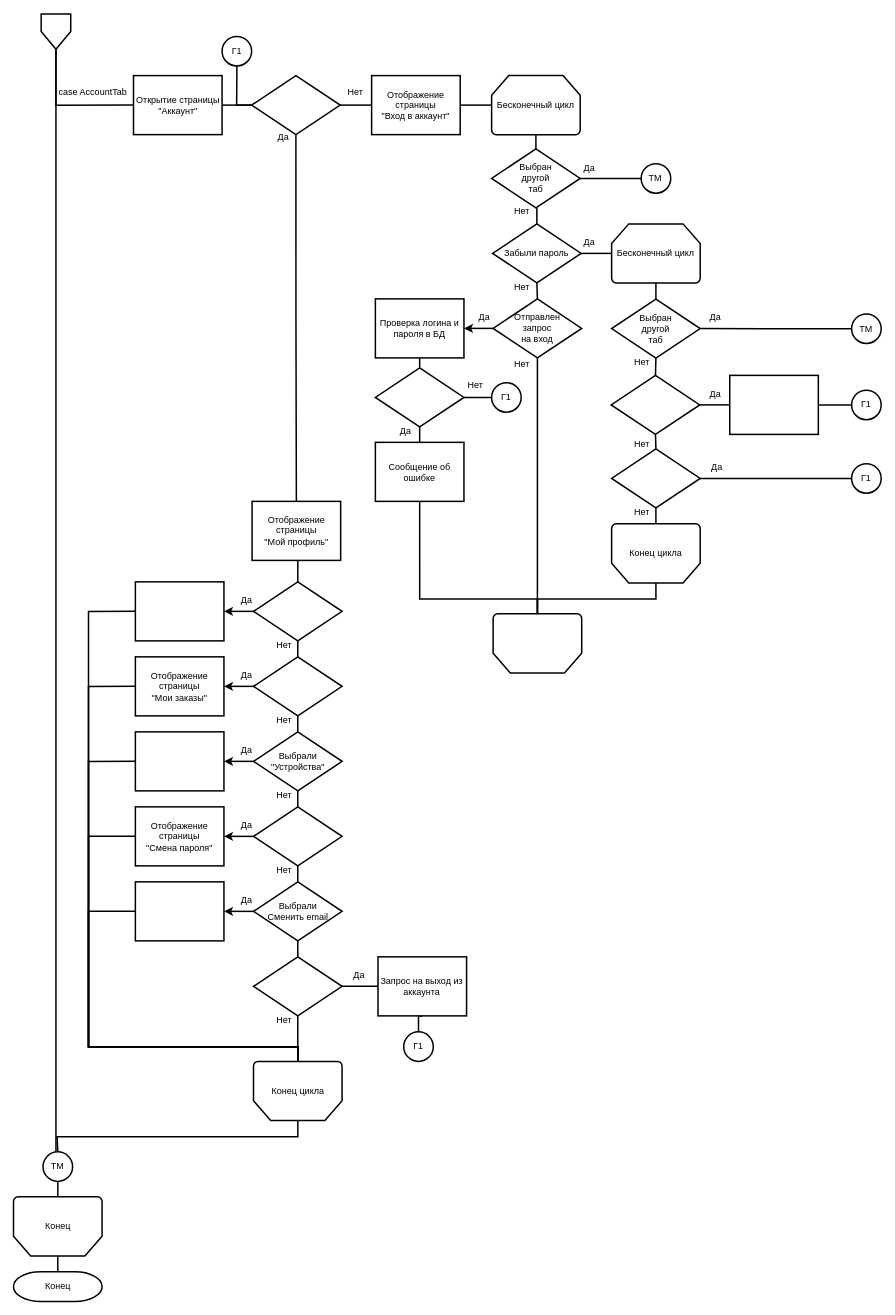
Some shapes in this 895 by 1315 pixel diagram are drawn without their labels. The centre of each missing label's shape, as x and y in pixels:
Xx: [537,643]
Авторизован: [295,104]
Вернуться назад: [655,478]
Выбрали "Выход из аккаунта": [297,986]
Выбрали "Избранные": [297,611]
Выбрали "Мои заказы": [297,686]
Выбрали "Смена пароля": [297,836]
Л3: [55,31]
Отображение страницы "Избранные": [179,611]
Отображение страницы "Сменить email": [179,911]
Отображение страницы "Устройства": [179,761]
Отправка на email логин и новый сгенерированый пароль: [774,404]
Отправлен запрос: [655,404]
Статус не 200: [419,397]
